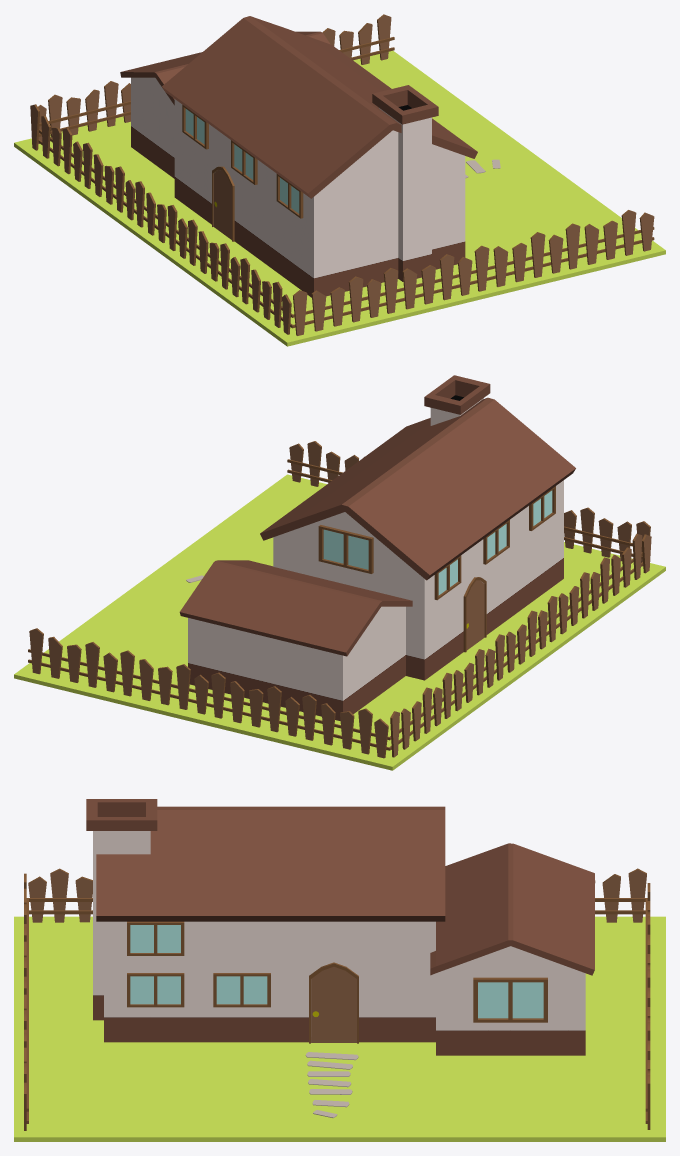
Rendered from House_03.fbx.
3 views of the same model, one above another, from view 1: azimuth 30°, elevation 25°; view 2: azimuth 150°, elevation 25°; view 3: azimuth 270°, elevation 25° (orthographic). The views are drawn at different scales.
Parts seen in each view (by area): view 1: House_03_Merged; view 2: House_03_Merged; view 3: House_03_Merged.
Part boxes in pixels (x1=…): House_03_Merged: x1=14, y1=14, x2=665, y2=346; House_03_Merged: x1=14, y1=375, x2=665, y2=770; House_03_Merged: x1=14, y1=799, x2=665, y2=1141.
Bounding box in the file's own units: 45 × 19.7 × 56.25.
6 materials, 6 textured.
